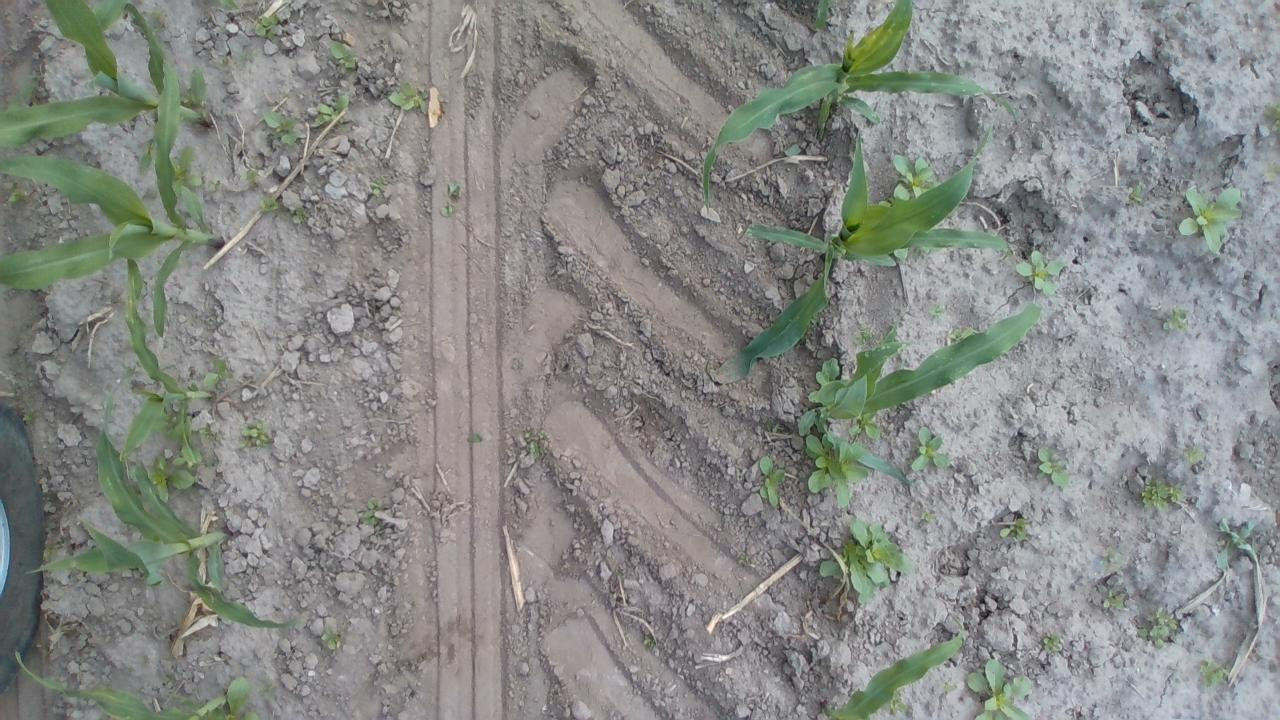Maize: (706, 126, 1014, 392), (21, 378, 309, 642), (0, 58, 223, 338), (700, 14, 1016, 209), (788, 299, 1044, 492), (0, 0, 218, 146), (118, 260, 244, 461), (12, 653, 272, 720), (805, 626, 965, 720)
Weeds: (818, 527, 916, 609), (798, 432, 868, 508), (1178, 180, 1238, 264), (964, 658, 1038, 720), (886, 153, 946, 214), (130, 452, 200, 500), (387, 86, 443, 128), (910, 426, 955, 476), (752, 454, 787, 518), (1016, 250, 1066, 292), (170, 140, 206, 193), (1033, 444, 1077, 485), (306, 92, 357, 127), (1138, 478, 1194, 509), (1142, 606, 1178, 652), (264, 106, 297, 154), (1191, 656, 1227, 698), (998, 509, 1035, 546), (526, 427, 557, 467), (1215, 481, 1252, 514), (1100, 576, 1126, 622), (194, 420, 228, 452), (1163, 306, 1196, 335), (246, 421, 272, 452), (331, 47, 359, 75), (1124, 182, 1150, 211), (854, 322, 878, 350), (358, 500, 382, 528), (256, 18, 282, 42), (261, 188, 285, 214), (1038, 636, 1066, 658), (319, 630, 342, 656), (1265, 100, 1280, 138), (368, 175, 390, 200), (924, 304, 947, 326), (290, 203, 314, 224), (447, 180, 462, 202), (438, 204, 456, 220)
